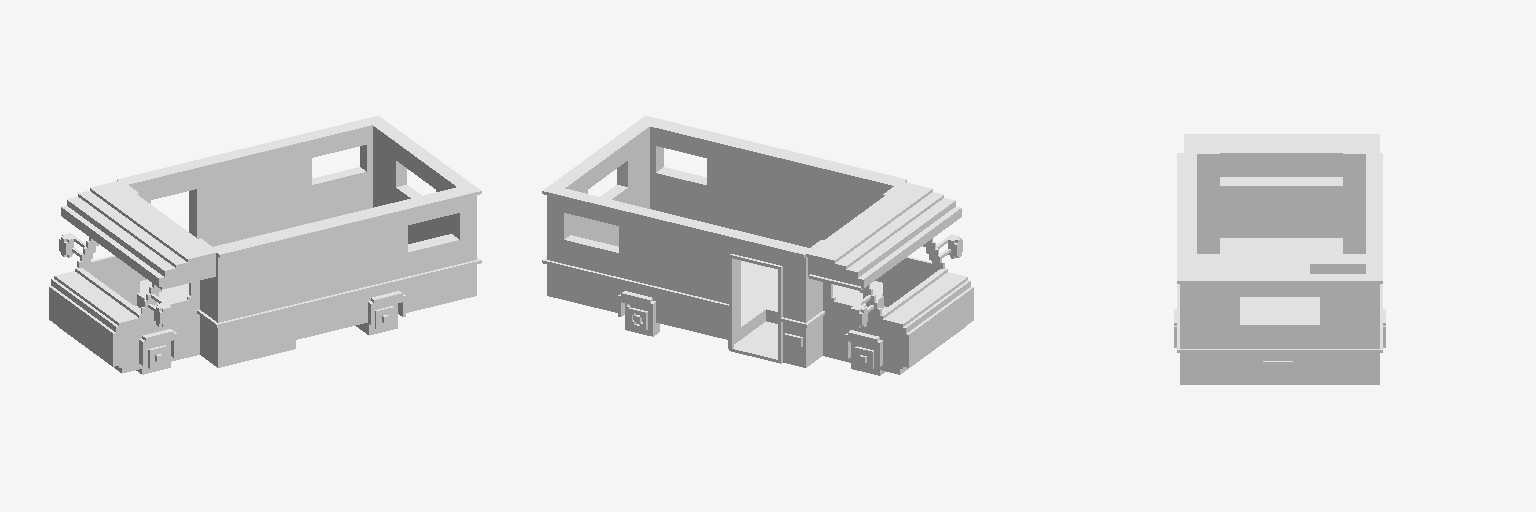
Rendered from rv-white.obj.
3 views of the same model, side by side, from view 1: azimuth 30°, elevation 25°; view 2: azimuth 150°, elevation 25°; view 3: azimuth 270°, elevation 25° (orthographic).
Parts seen in each view (by area): view 1: RV:White; view 2: RV:White; view 3: RV:White.
Part boxes in pixels (left/top/right/bottom): RV:White: left=49, top=116, right=481, bottom=374; RV:White: left=542, top=116, right=973, bottom=375; RV:White: left=1174, top=134, right=1385, bottom=384.
Bounding box in the file's own units: 121 × 40 × 64.